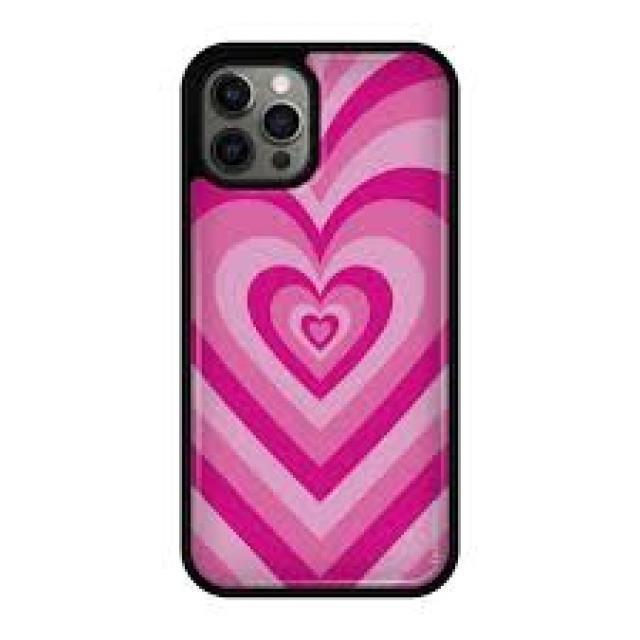Phone: (175, 32, 466, 602)
